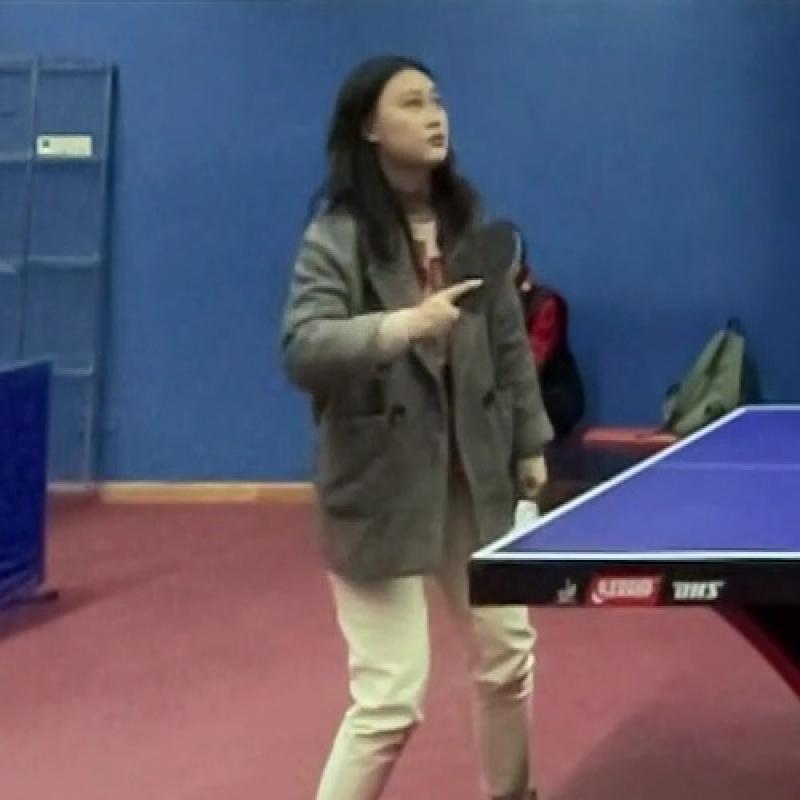bats: (428, 211, 526, 314)
